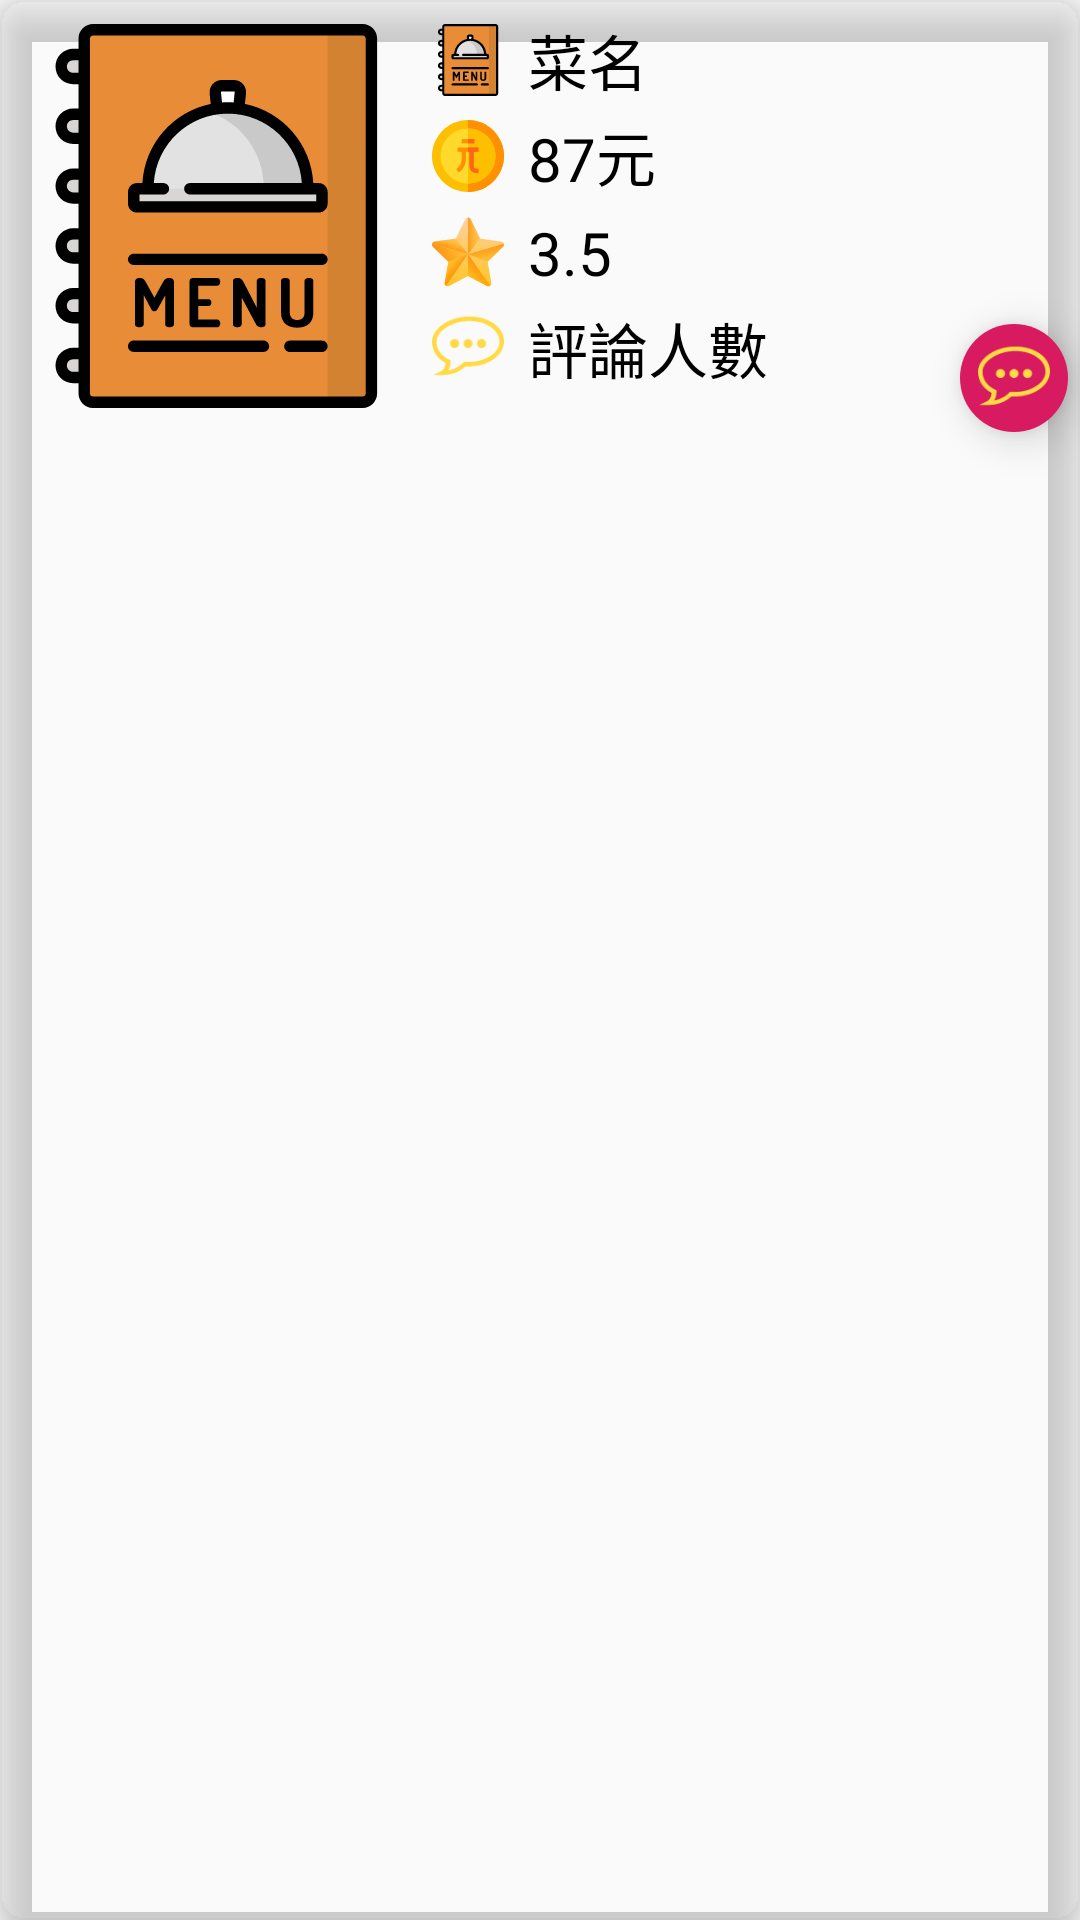

Screen size 1080 × 1920. Icon name, then its center in pixels as [x,y]:
comment: [468,346], [1014,378]
dollar: [468,156]
star: [468,252]
